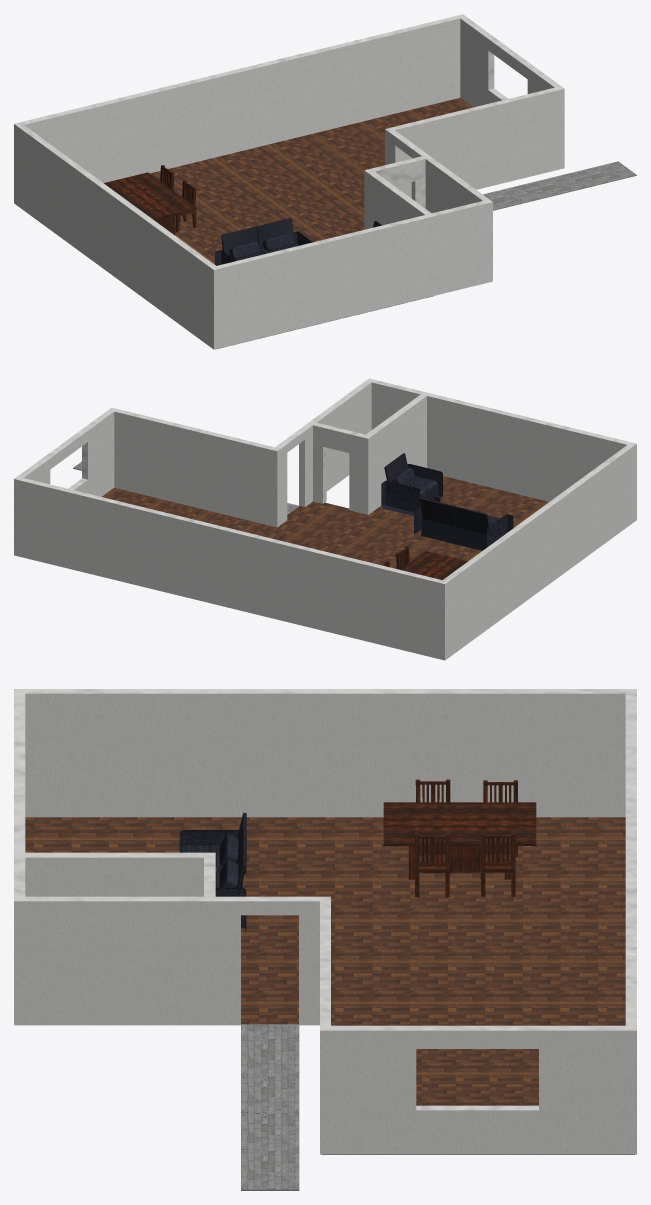
File: casa.fbx
The picture shows the model from 3 angles, top to bottom: view 1: azimuth 30°, elevation 25°; view 2: azimuth 150°, elevation 25°; view 3: azimuth 270°, elevation 25°; orthographic projection. The views are drawn at different scales.
Parts seen in each view (by area): view 1: Pared1, PisoPB, Cube, Mesa, SofaGrande, Silla.004; view 2: Pared1, PisoPB, SofaGrande, SofaPequenio, Mesa; view 3: Pared1, PisoPB, Cube, Mesa, SofaGrande, Silla.003, Silla.004.
Boxes of the visible parts, x1,y1,x2,y2 form: Pared1: (14, 14, 564, 349); PisoPB: (150, 98, 473, 349); Cube: (483, 161, 636, 210); Mesa: (104, 172, 196, 235); SofaGrande: (215, 218, 312, 265); Silla.004: (175, 180, 196, 232); Pared1: (14, 378, 636, 660); PisoPB: (102, 476, 548, 568); SofaGrande: (414, 496, 513, 550); SofaPequenio: (381, 453, 442, 515); Mesa: (400, 551, 467, 579); Pared1: (14, 689, 636, 1154); PisoPB: (25, 817, 634, 1154); Cube: (241, 1024, 299, 1190); Mesa: (383, 802, 536, 879); SofaGrande: (179, 812, 246, 932); Silla.003: (480, 832, 515, 896); Silla.004: (414, 833, 449, 897).
Size of what is drawn, in the model's own units: 1818 by 281 by 1269.
